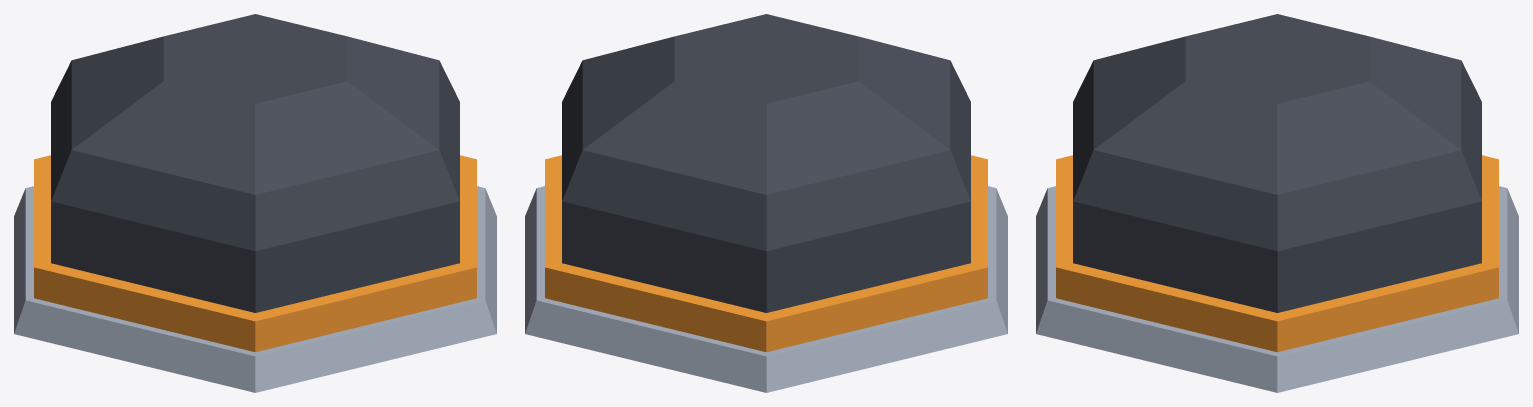
Rendered from k-hangar-round-glass.glb.
The picture shows the model from 3 angles, left to right: view 1: azimuth 30°, elevation 25°; view 2: azimuth 150°, elevation 25°; view 3: azimuth 270°, elevation 25°; orthographic projection.
Visible parts, largest first — view 1: hangar_roundGlass; view 2: hangar_roundGlass; view 3: hangar_roundGlass.
Boxes of the visible parts, x1,y1,x2,y2 form: hangar_roundGlass: (14, 14, 496, 392); hangar_roundGlass: (525, 14, 1007, 392); hangar_roundGlass: (1036, 14, 1518, 392).
Size of the model in its own units: 3.27 by 1.4 by 2.83.
